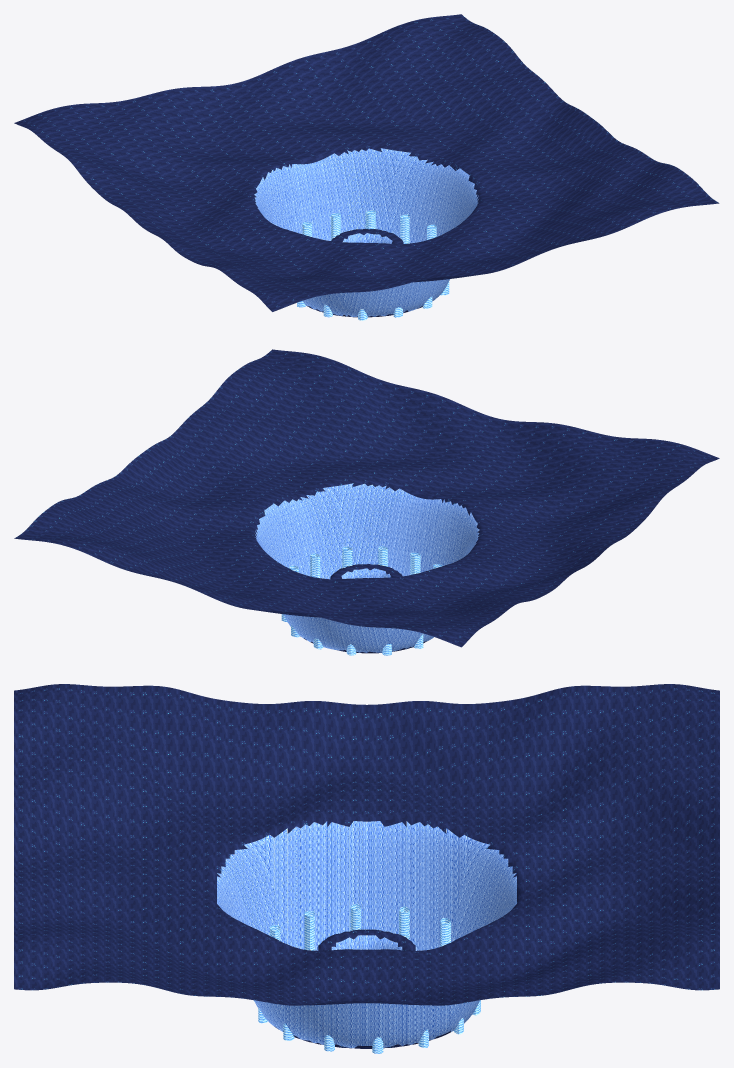
3 renders of one model, top to bottom at view 1: azimuth 30°, elevation 25°; view 2: azimuth 150°, elevation 25°; view 3: azimuth 270°, elevation 25°, orthographic. The views are drawn at different scales.
Parts seen in each view (by area): view 1: Crumble Rink; view 2: Crumble Rink; view 3: Crumble Rink.
Boxes of the visible parts, x1=… form: Crumble Rink: x1=14, y1=14, x2=719, y2=317; Crumble Rink: x1=14, y1=349, x2=719, y2=653; Crumble Rink: x1=14, y1=684, x2=719, y2=1048.
Size of the model in its own units: 400 by 110 by 400.
Materials: 3 (3 with a texture image).
